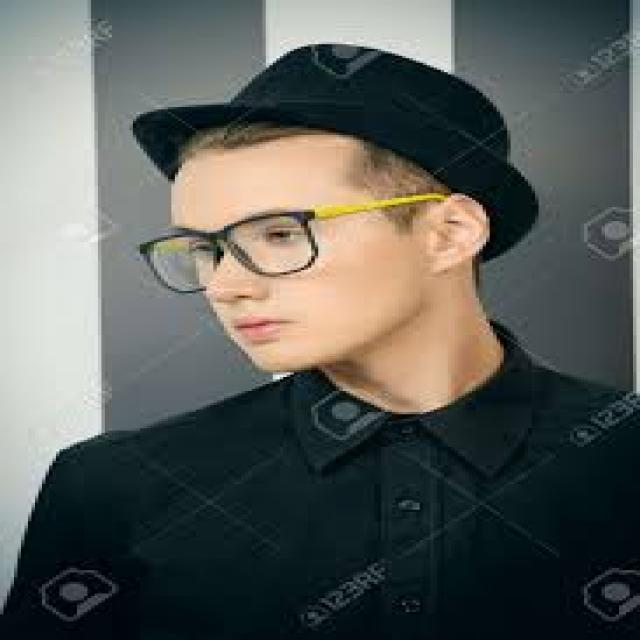hat: (126, 37, 549, 377)
